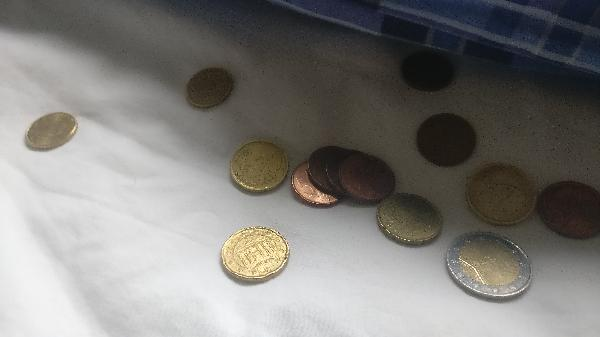Fifty Cent: (464, 162, 536, 227)
Five Cent: (536, 181, 600, 245), (415, 110, 477, 163), (318, 149, 372, 204), (336, 152, 394, 201), (292, 161, 346, 208), (402, 53, 461, 91)
Ten Cent: (25, 112, 80, 152)
Twenty Cent: (223, 222, 303, 285), (377, 190, 443, 248), (231, 140, 288, 194), (184, 65, 237, 109)
Two Euro: (448, 228, 535, 303)
